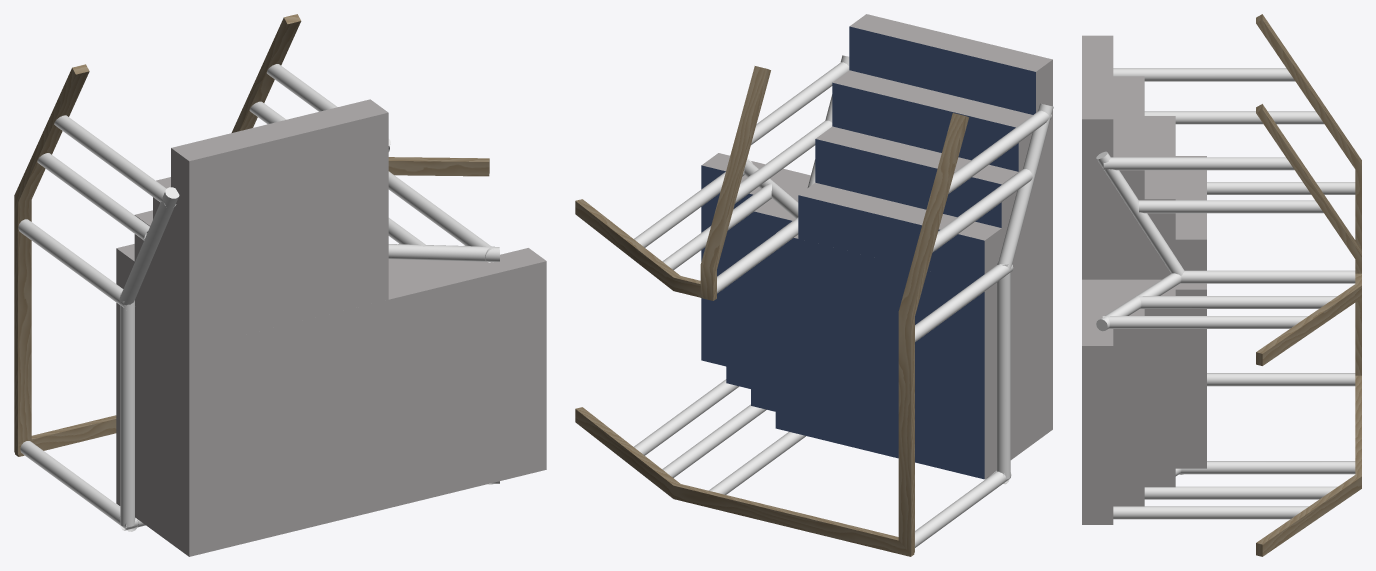
3 renders of one model, left to right at view 1: azimuth 30°, elevation 25°; view 2: azimuth 150°, elevation 25°; view 3: azimuth 270°, elevation 25°, orthographic. The views are drawn at different scales.
Parts seen in each view (by area): view 1: Cube.001; view 2: Cube.001; view 3: Cube.001.
Boxes of the visible parts, <box> form: Cube.001: <box>14,14,546,556</box>; Cube.001: <box>575,14,1053,556</box>; Cube.001: <box>1082,14,1361,556</box>.
Bounding box in the file's own units: 140 × 138 × 94.77.
